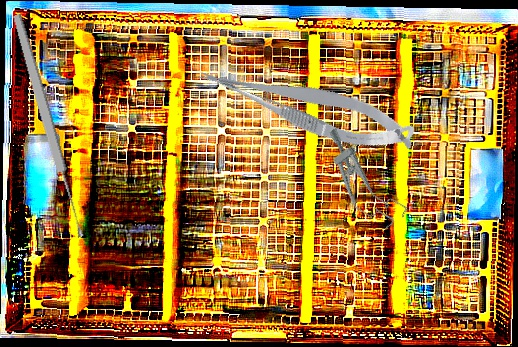Micro Scissor: (193, 39, 422, 171)
Speculum: (309, 122, 411, 237)
Surgical Spoon: (9, 13, 88, 239)
